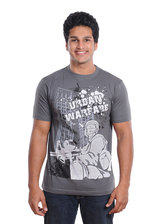clothoes: (28, 64, 133, 196)
